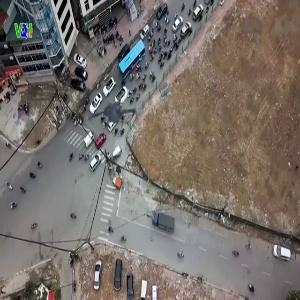drone: (84, 77, 151, 144)
